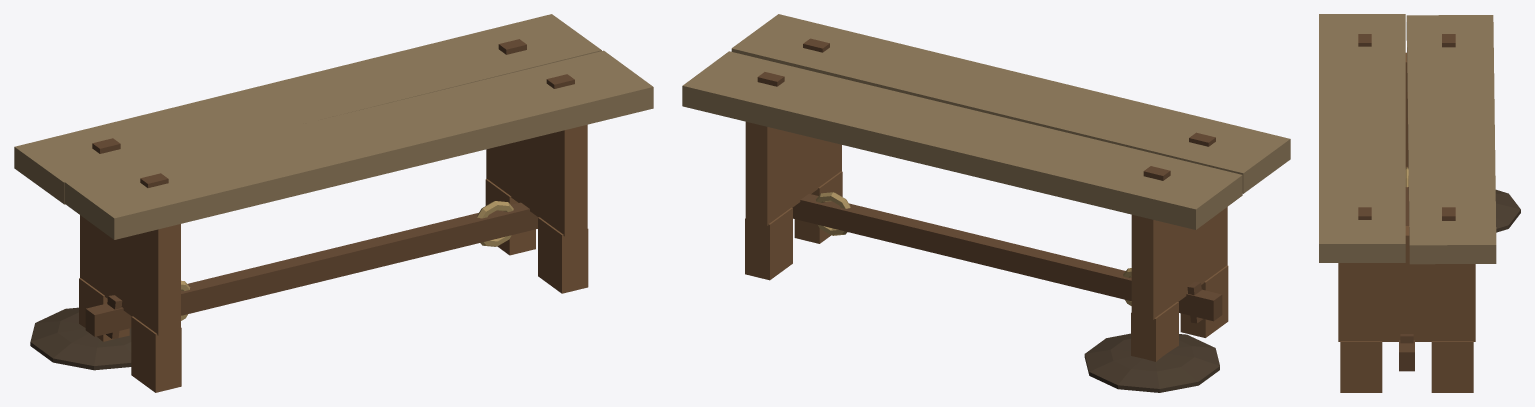
File: SM_Bench_RusticPlank_01.glb
3 renders of one model, left to right at view 1: azimuth 30°, elevation 25°; view 2: azimuth 150°, elevation 25°; view 3: azimuth 270°, elevation 25°, orthographic. The views are drawn at different scales.
Visible parts, largest first — view 1: SM_Bench_RusticPlank_01_SeatPlank0, SM_Bench_RusticPlank_01_SeatPlank1, SM_Bench_RusticPlank_01_Stretcher, SM_Bench_RusticPlank_01_TrestleL, SM_Bench_RusticPlank_01_TrestleR, SM_Bench_RusticPlank_01_Mound, SM_Bench_RusticPlank_01_TrestleFootLF, SM_Bench_RusticPlank_01_TrestleFootRF, SM_Bench_RusticPlank_01_TrestleFootRB, SM_Bench_RusticPlank_01_TrestleFootLB, SM_Bench_RusticPlank_01_Rope1; view 2: SM_Bench_RusticPlank_01_SeatPlank1, SM_Bench_RusticPlank_01_SeatPlank0, SM_Bench_RusticPlank_01_Stretcher, SM_Bench_RusticPlank_01_TrestleL, SM_Bench_RusticPlank_01_TrestleR, SM_Bench_RusticPlank_01_Mound, SM_Bench_RusticPlank_01_TrestleFootRB, SM_Bench_RusticPlank_01_TrestleFootLB, SM_Bench_RusticPlank_01_TrestleFootLF, SM_Bench_RusticPlank_01_TrestleFootRF; view 3: SM_Bench_RusticPlank_01_SeatPlank1, SM_Bench_RusticPlank_01_SeatPlank0, SM_Bench_RusticPlank_01_TrestleR, SM_Bench_RusticPlank_01_TrestleFootRB, SM_Bench_RusticPlank_01_TrestleFootRF, SM_Bench_RusticPlank_01_Mound, SM_Bench_RusticPlank_01_Stretcher, SM_Bench_RusticPlank_01_TrestleL, SM_Bench_RusticPlank_01_TenonTop01, SM_Bench_RusticPlank_01_TenonTop11.
Boxes of the visible parts, <box> form: SM_Bench_RusticPlank_01_SeatPlank0: <box>64,50,653,239</box>; SM_Bench_RusticPlank_01_SeatPlank1: <box>14,14,601,204</box>; SM_Bench_RusticPlank_01_Stretcher: <box>85,202,537,336</box>; SM_Bench_RusticPlank_01_TrestleL: <box>80,215,180,335</box>; SM_Bench_RusticPlank_01_TrestleR: <box>486,124,587,236</box>; SM_Bench_RusticPlank_01_Mound: <box>30,307,131,370</box>; SM_Bench_RusticPlank_01_TrestleFootLF: <box>131,316,181,392</box>; SM_Bench_RusticPlank_01_TrestleFootRF: <box>538,217,588,293</box>; SM_Bench_RusticPlank_01_TrestleFootRB: <box>485,179,535,255</box>; SM_Bench_RusticPlank_01_TrestleFootLB: <box>79,278,129,341</box>; SM_Bench_RusticPlank_01_Rope1: <box>477,201,513,246</box>; SM_Bench_RusticPlank_01_SeatPlank1: <box>682,51,1242,229</box>; SM_Bench_RusticPlank_01_SeatPlank0: <box>731,14,1290,193</box>; SM_Bench_RusticPlank_01_Stretcher: <box>792,193,1222,321</box>; SM_Bench_RusticPlank_01_TrestleL: <box>1131,207,1227,319</box>; SM_Bench_RusticPlank_01_TrestleR: <box>745,121,841,225</box>; SM_Bench_RusticPlank_01_Mound: <box>1084,333,1219,392</box>; SM_Bench_RusticPlank_01_TrestleFootRB: <box>745,207,792,280</box>; SM_Bench_RusticPlank_01_TrestleFootLB: <box>1131,302,1178,361</box>; SM_Bench_RusticPlank_01_TrestleFootLF: <box>1180,265,1228,337</box>; SM_Bench_RusticPlank_01_TrestleFootRF: <box>794,171,842,243</box>; SM_Bench_RusticPlank_01_SeatPlank1: <box>1406,15,1496,264</box>; SM_Bench_RusticPlank_01_SeatPlank0: <box>1319,14,1405,262</box>; SM_Bench_RusticPlank_01_TrestleR: <box>1338,226,1475,341</box>; SM_Bench_RusticPlank_01_TrestleFootRB: <box>1431,341,1473,392</box>; SM_Bench_RusticPlank_01_TrestleFootRF: <box>1340,341,1382,392</box>; SM_Bench_RusticPlank_01_Mound: <box>1495,189,1520,232</box>; SM_Bench_RusticPlank_01_Stretcher: <box>1399,166,1414,371</box>; SM_Bench_RusticPlank_01_TrestleL: <box>1405,52,1408,166</box>; SM_Bench_RusticPlank_01_TenonTop01: <box>1442,34,1455,47</box>; SM_Bench_RusticPlank_01_TenonTop11: <box>1442,207,1455,220</box>.
Size of the model in its own units: 1.3 by 0.4625 by 0.4822.
